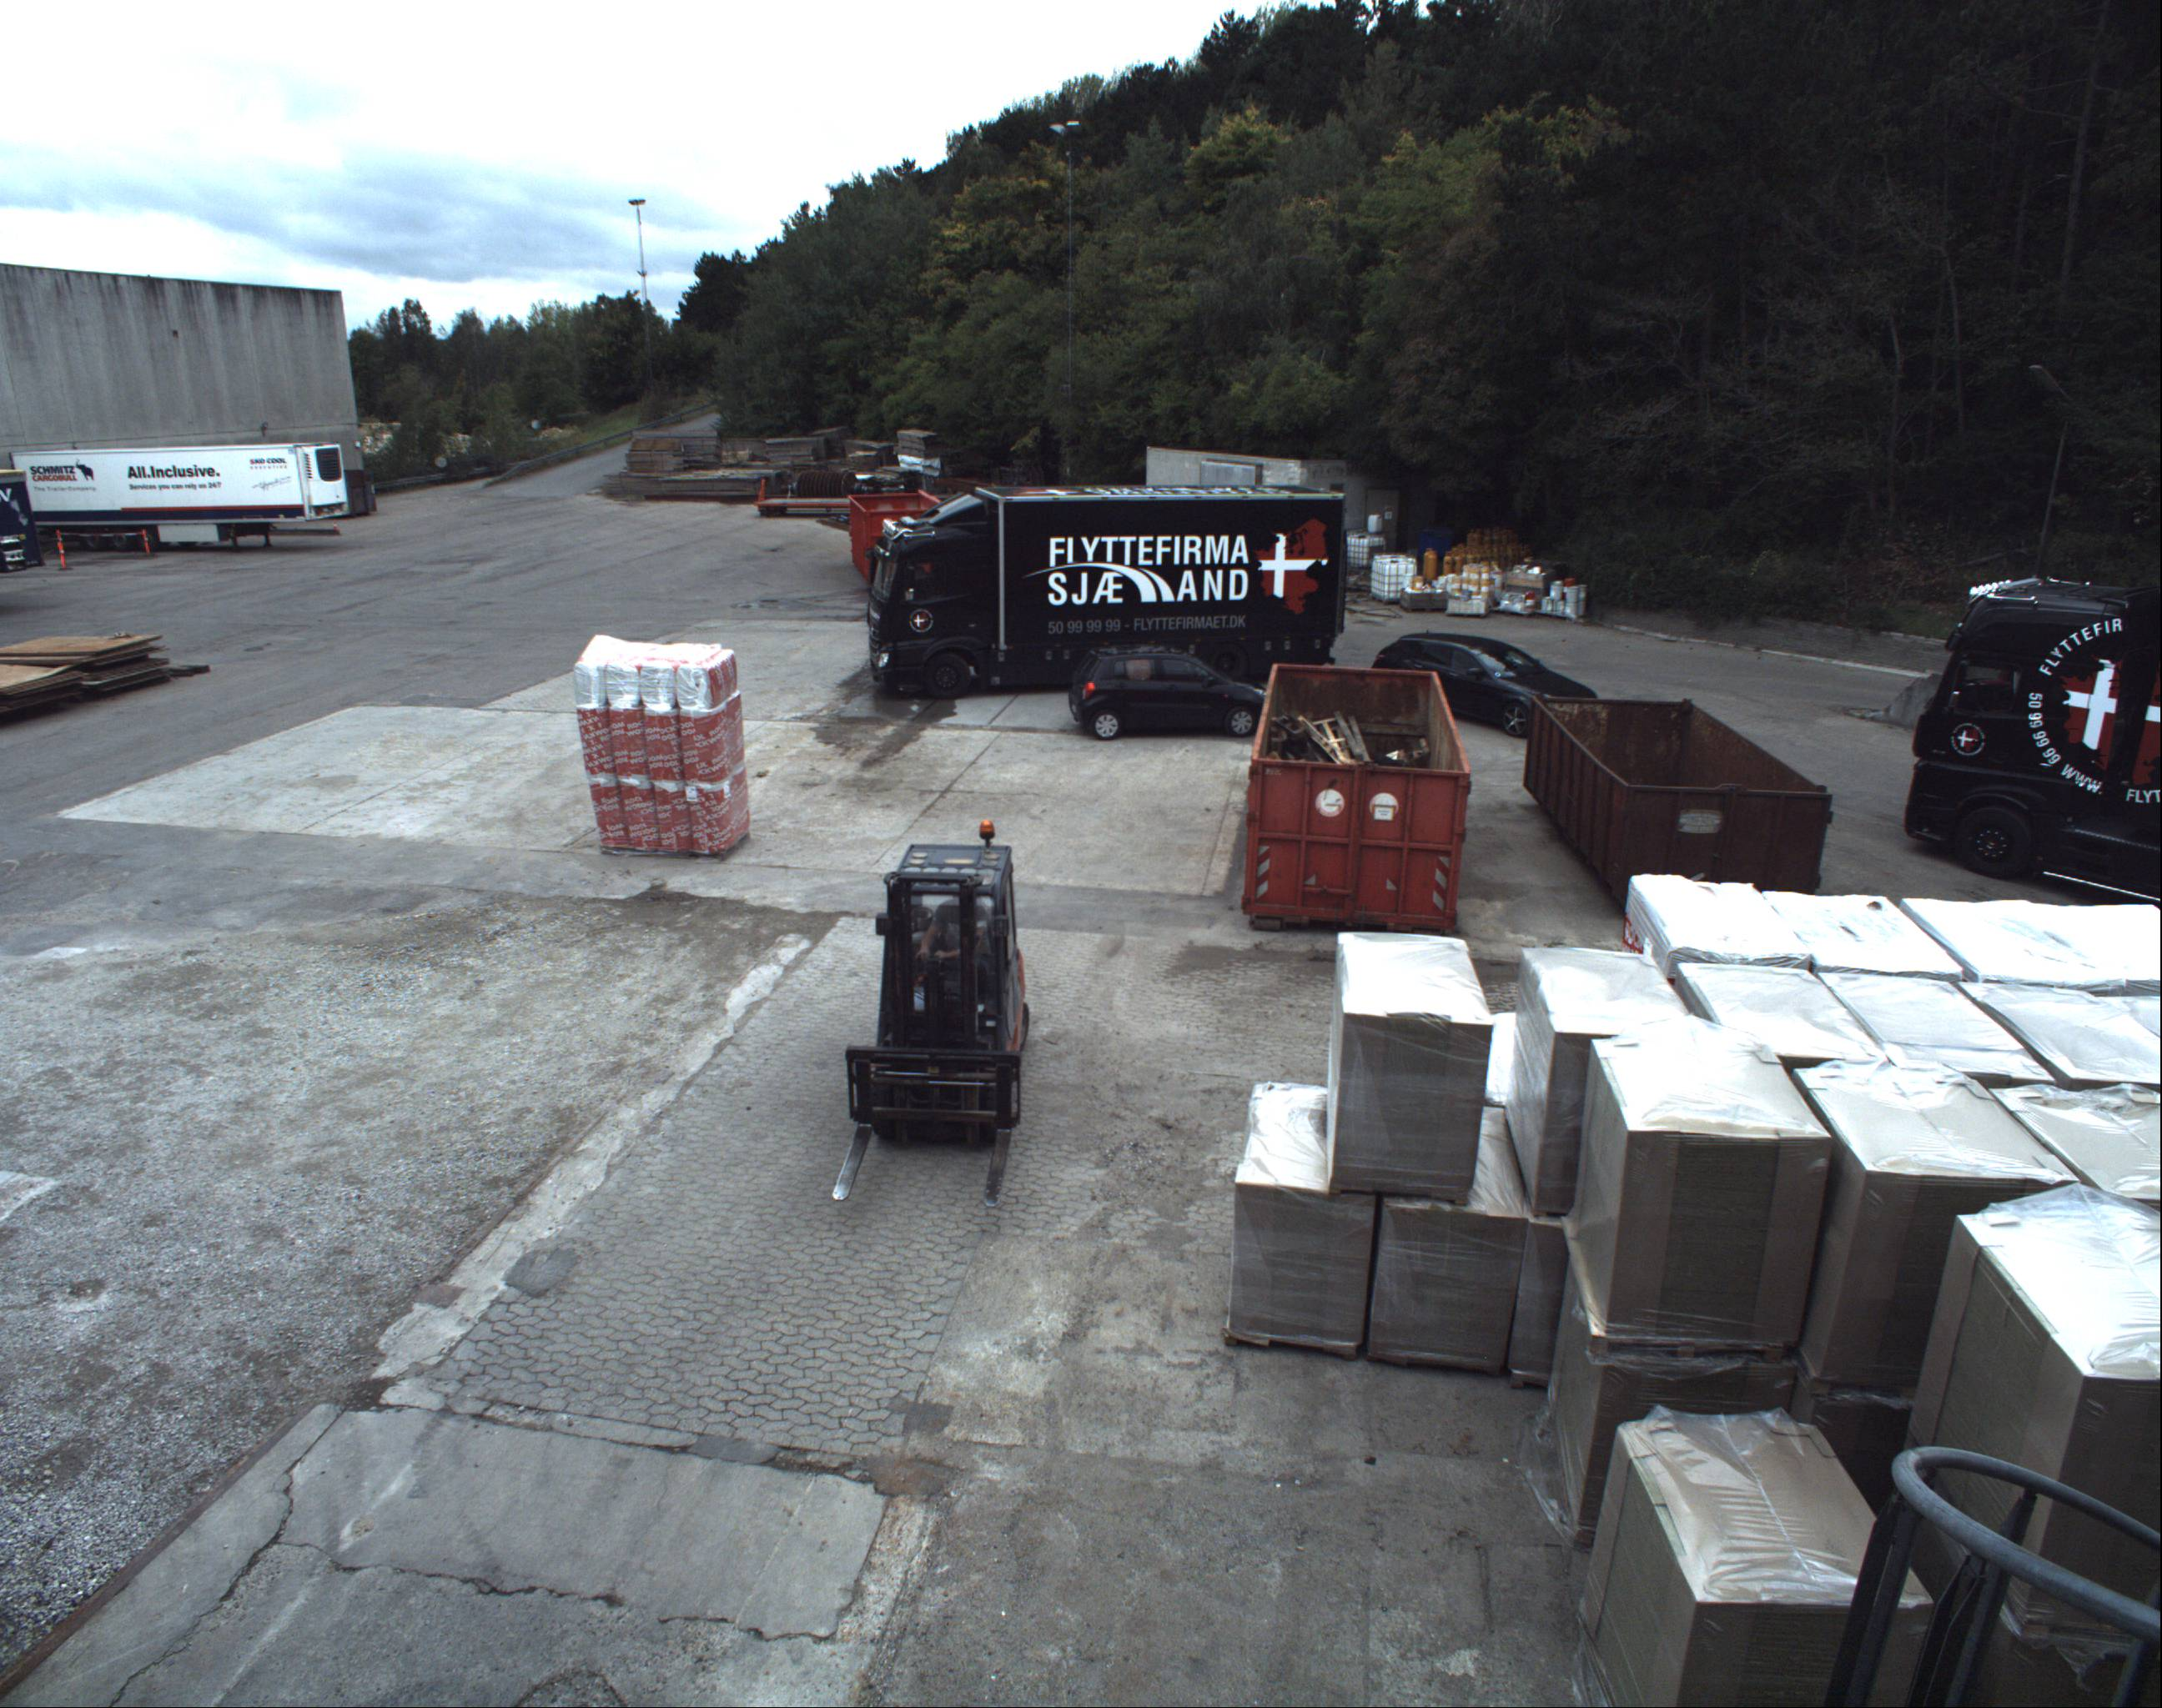rockwool_batts: (574, 637, 753, 830)
